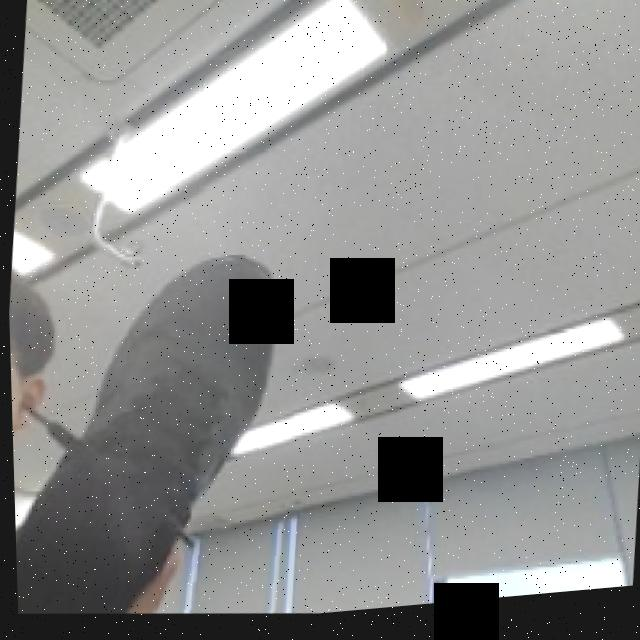shoe: (4, 164, 323, 636)
